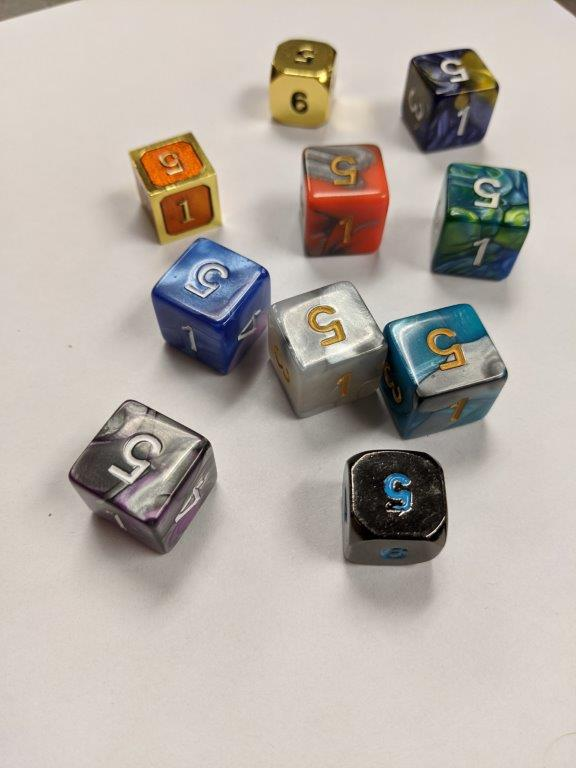d6-5: (70, 399, 219, 556), (148, 235, 269, 378), (270, 281, 388, 418), (387, 304, 505, 439), (428, 163, 533, 285), (342, 450, 449, 569), (297, 140, 388, 259), (130, 132, 227, 241), (400, 52, 499, 156), (265, 38, 340, 130)
